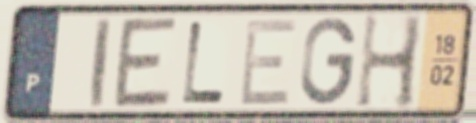E: (110, 14, 181, 112), (236, 16, 300, 109)
G: (298, 15, 359, 109)
H: (352, 9, 427, 113)
I: (89, 15, 114, 112)
L: (179, 18, 229, 106)
